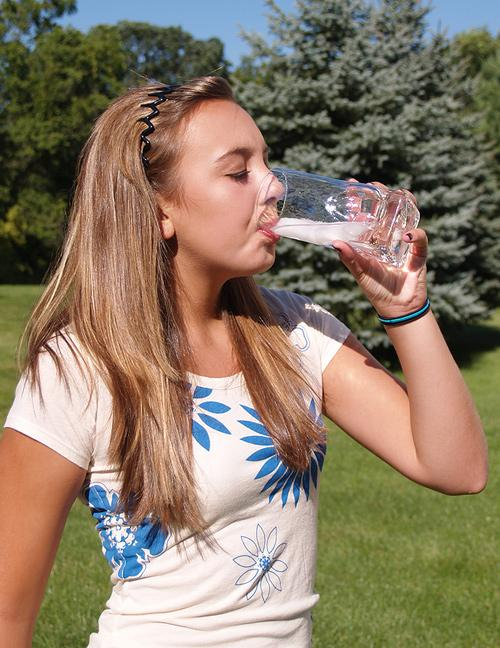person: (2, 66, 492, 648)
